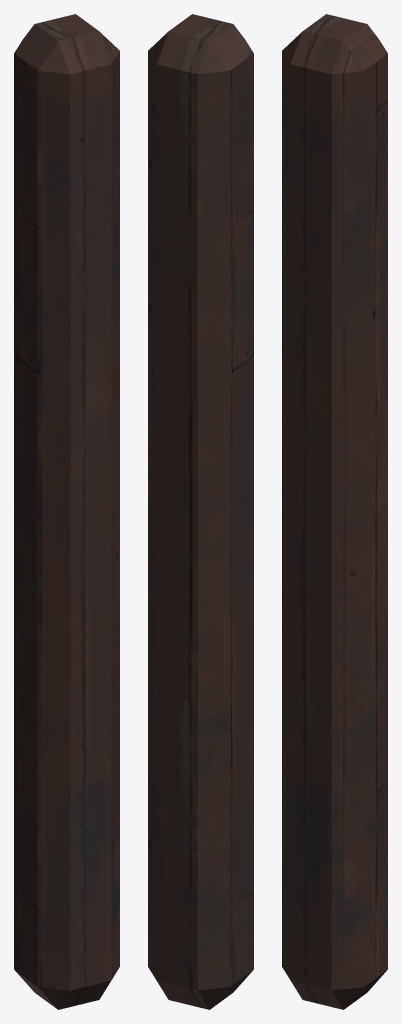
The model's file is wood_deco1_horror.glb.
The picture shows the model from 3 angles, left to right: view 1: azimuth 30°, elevation 25°; view 2: azimuth 150°, elevation 25°; view 3: azimuth 330°, elevation 25°; orthographic projection.
Parts seen in each view (by area): view 1: wood_deco4; view 2: wood_deco4; view 3: wood_deco4.
Part boxes in pixels (bbox=[...]): wood_deco4: bbox=[14, 14, 119, 1009]; wood_deco4: bbox=[148, 14, 253, 1009]; wood_deco4: bbox=[282, 14, 387, 1009].
Size of the model in its own units: 0.0665 by 0.7488 by 0.0665.
Materials: 1 (1 with a texture image).
